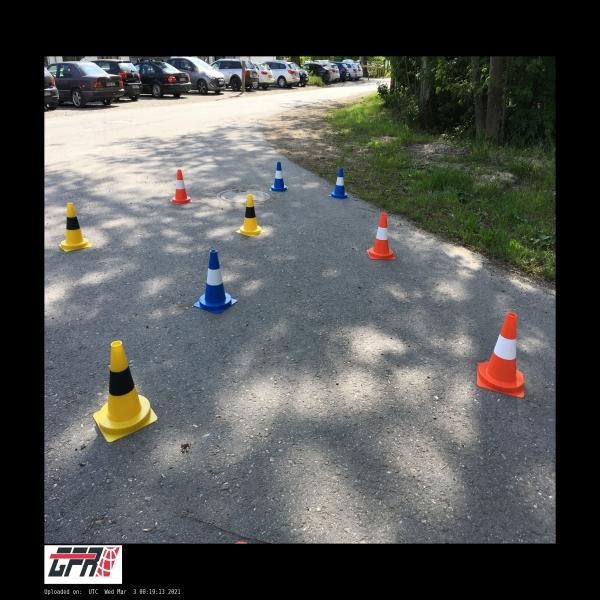blue_cone: (194, 250, 238, 314), (328, 168, 349, 200), (269, 162, 289, 192)
orange_cone: (477, 312, 524, 398), (366, 213, 396, 260), (170, 170, 193, 204)
yellow_cone: (92, 340, 158, 443), (58, 203, 92, 252), (236, 194, 265, 237)
